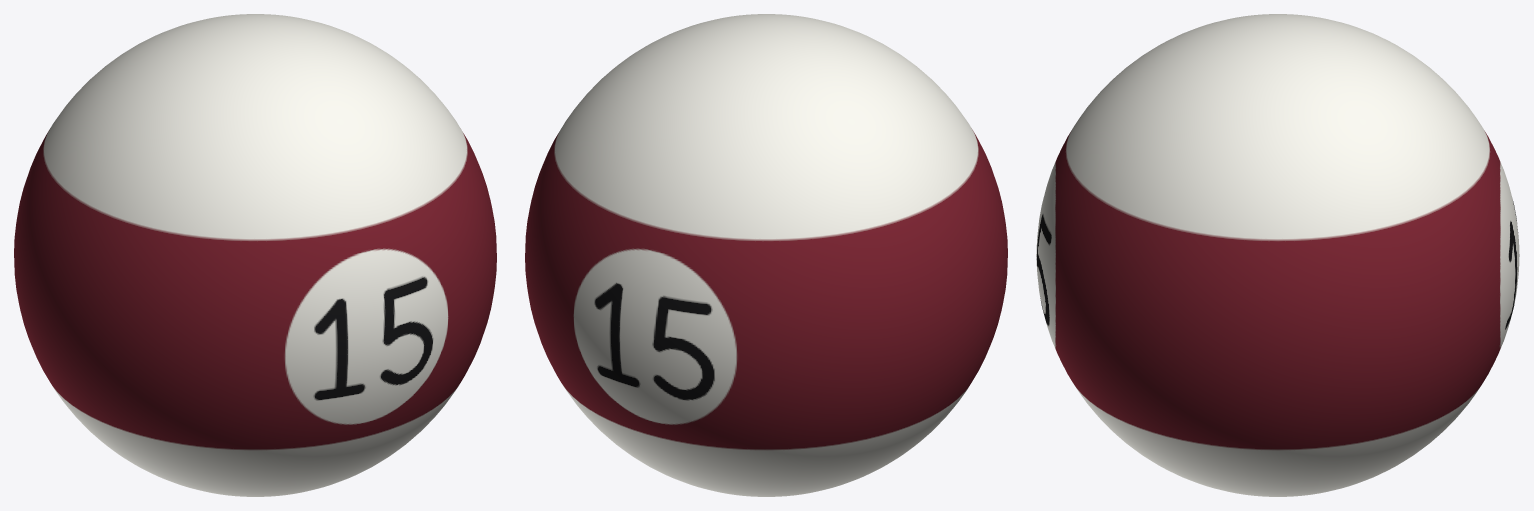
Rendered from ball-15.gltf.
3 views of the same model, side by side, from view 1: azimuth 30°, elevation 25°; view 2: azimuth 150°, elevation 25°; view 3: azimuth 270°, elevation 25° (orthographic).
Parts seen in each view (by area): view 1: Ball_15; view 2: Ball_15; view 3: Ball_15.
Boxes of the visible parts, bbox=[...] form: Ball_15: bbox=[14, 14, 496, 496]; Ball_15: bbox=[525, 14, 1007, 496]; Ball_15: bbox=[1036, 14, 1519, 496].
Bounding box in the file's own units: 0.1 × 0.1 × 0.1.
Materials: 1 (1 with a texture image).
